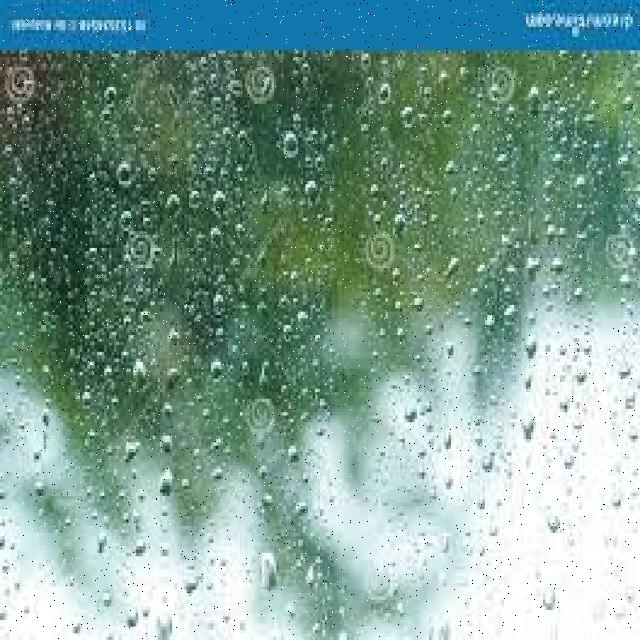raindrop: (248, 546, 284, 600), (511, 242, 546, 290), (157, 188, 184, 235), (436, 248, 466, 290), (534, 576, 562, 620), (204, 182, 232, 225), (276, 125, 302, 169), (110, 153, 136, 196), (128, 352, 152, 396), (152, 460, 176, 502), (514, 400, 538, 440), (538, 508, 565, 540), (518, 330, 540, 368), (203, 352, 224, 388)
